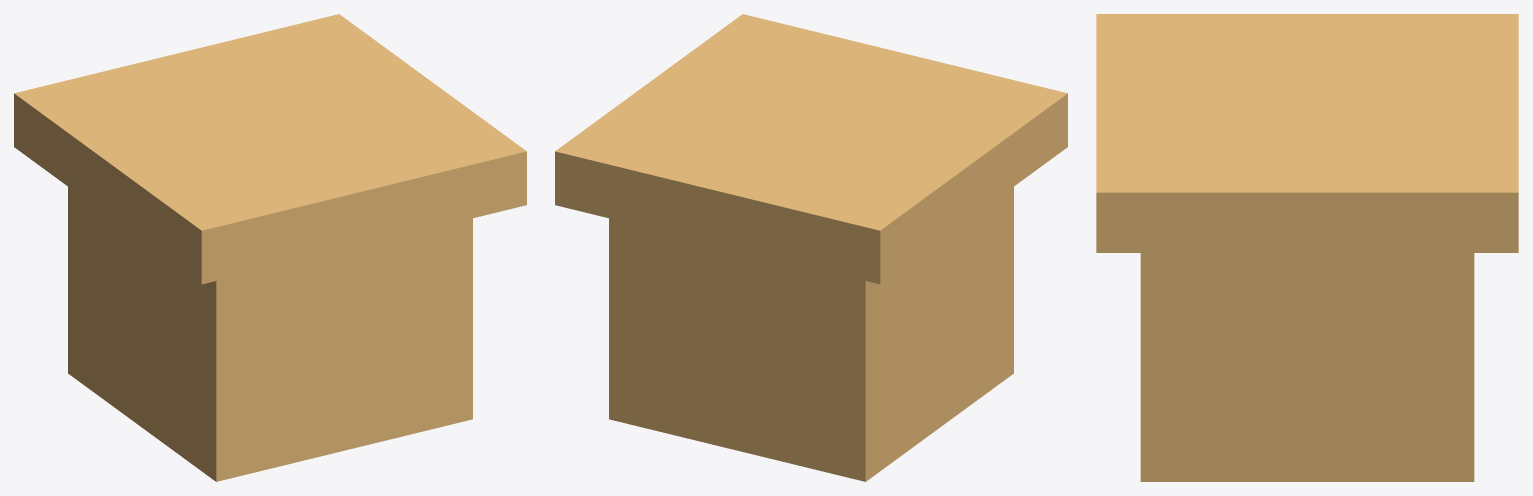
File: crate.glb
The picture shows the model from 3 angles, left to right: view 1: azimuth 30°, elevation 25°; view 2: azimuth 150°, elevation 25°; view 3: azimuth 270°, elevation 25°; orthographic projection. The views are drawn at different scales.
Visible parts, largest first — view 1: cargo_crate; view 2: cargo_crate; view 3: cargo_crate.
Boxes of the visible parts, x1,y1,x2,y2 form: cargo_crate: [14, 14, 526, 481]; cargo_crate: [555, 14, 1067, 481]; cargo_crate: [1096, 14, 1518, 481].
Bounding box in the file's own units: 0.418 × 0.3366 × 0.418.
